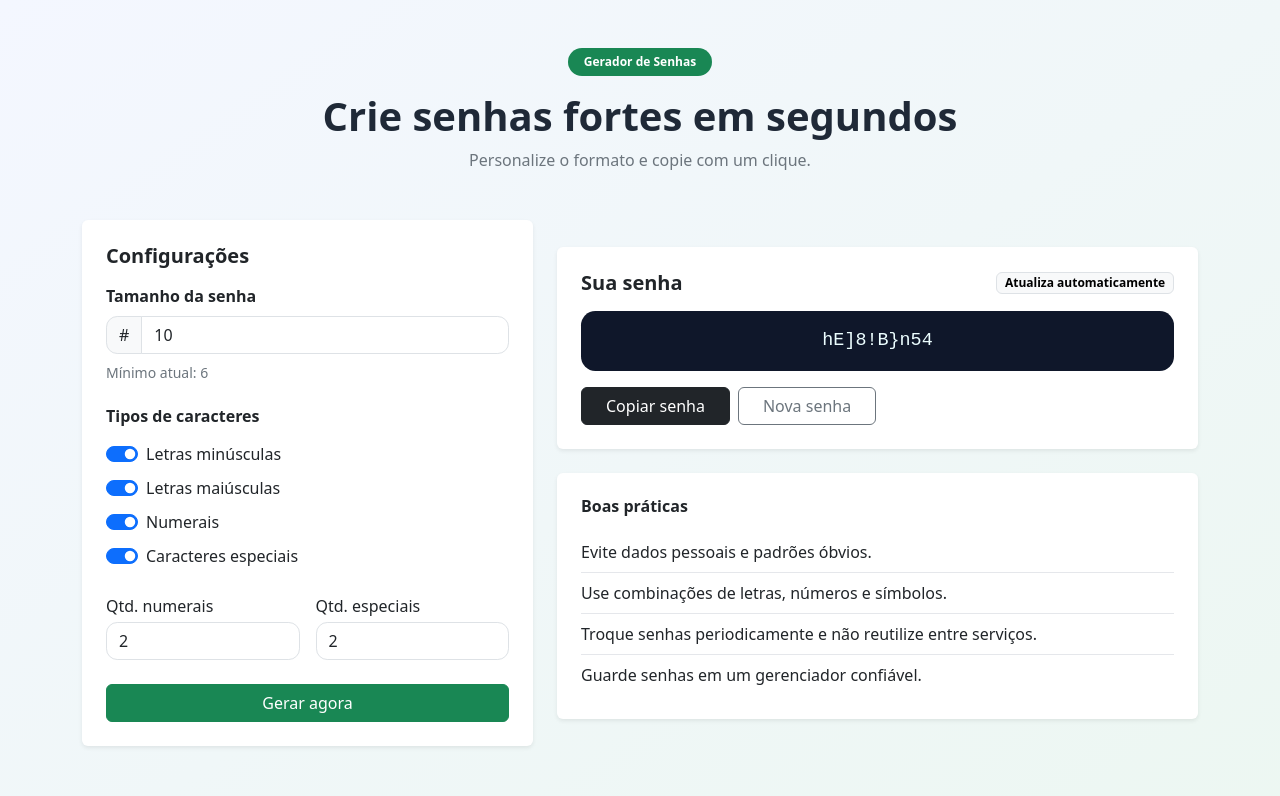
it: Password generator › copies the password and shows visual feedback
This screenshot has width=1280, height=796.
Click the button with test id "copy-password": point(656, 406) top-left (581, 387), bottom-right (730, 425)
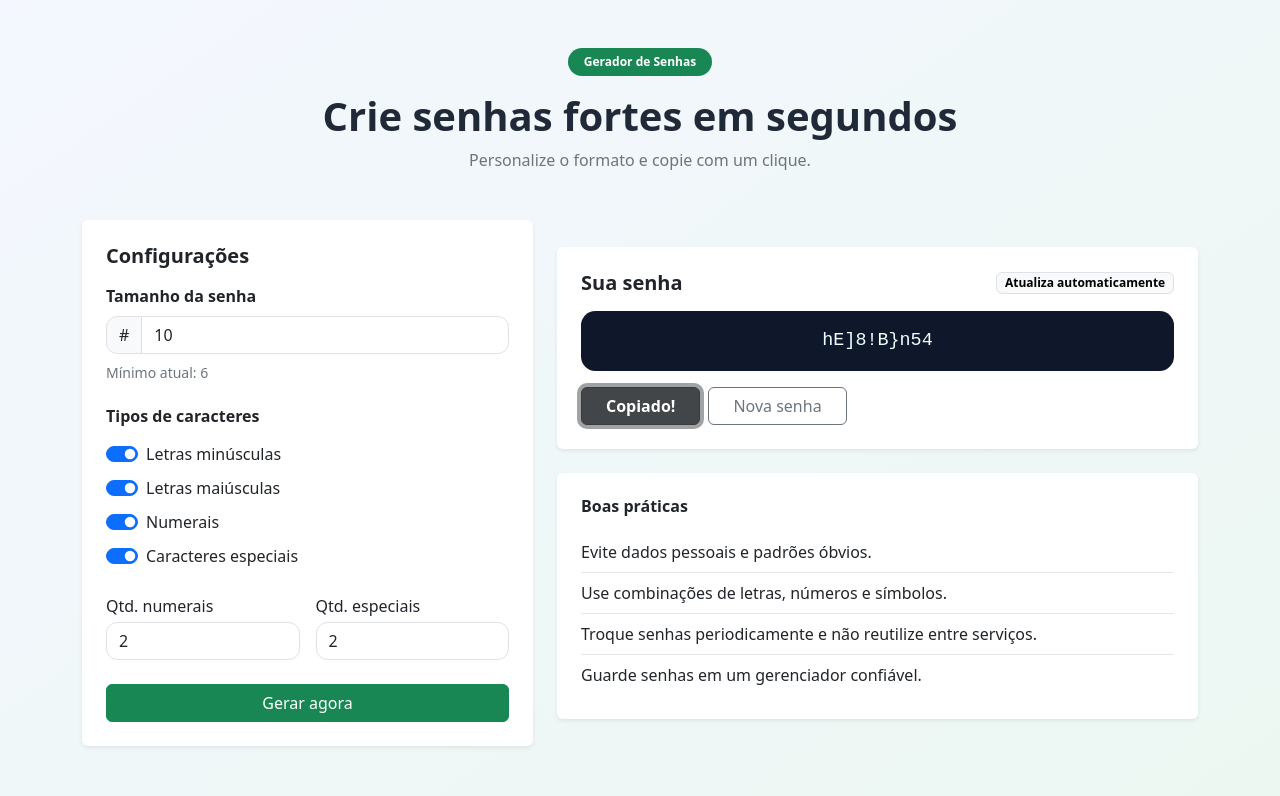
Expected: the button with test id "copy-password" reads "Copiado!", top-left (581, 387), bottom-right (700, 425)
